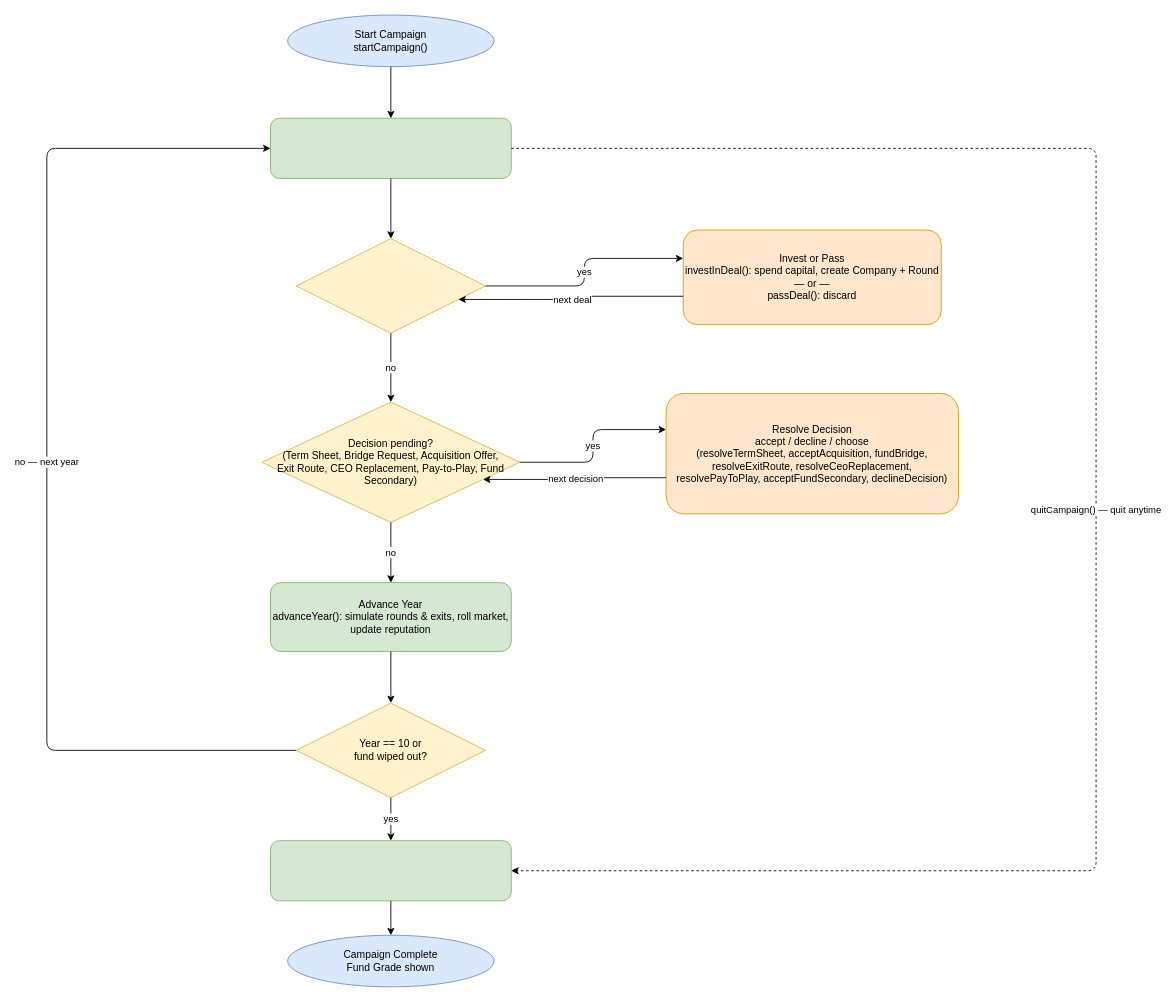
Image size: 1176x1002. Some labels were removed from this diagram. The centre of each missing label's shape, as x and y in pixels:
"Deal in queue?" belongs at (390,285).
"gradeFund() compute TVPI to letter grade" belongs at (390,870).
"New Year dealFlow(year): deal a fresh batch of pitches" belongs at (390,147).
